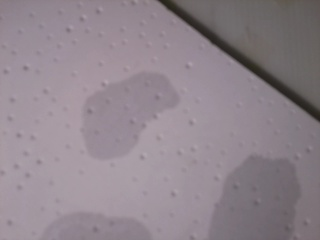Water_detected: (79, 78, 157, 155), (203, 175, 256, 234)
